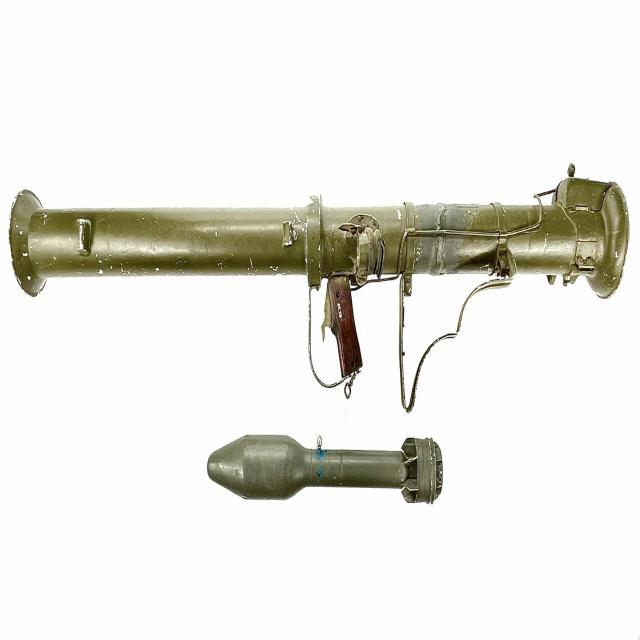rocket launcher: (6, 158, 630, 413)
